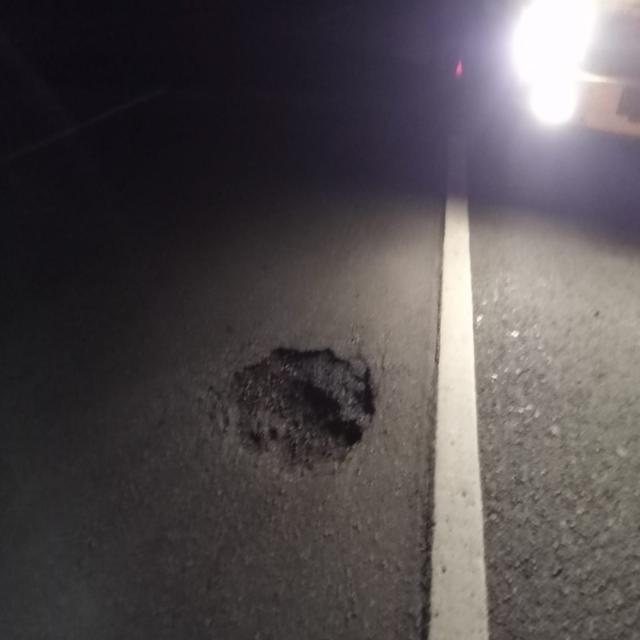Buraco: (212, 344, 383, 486)
